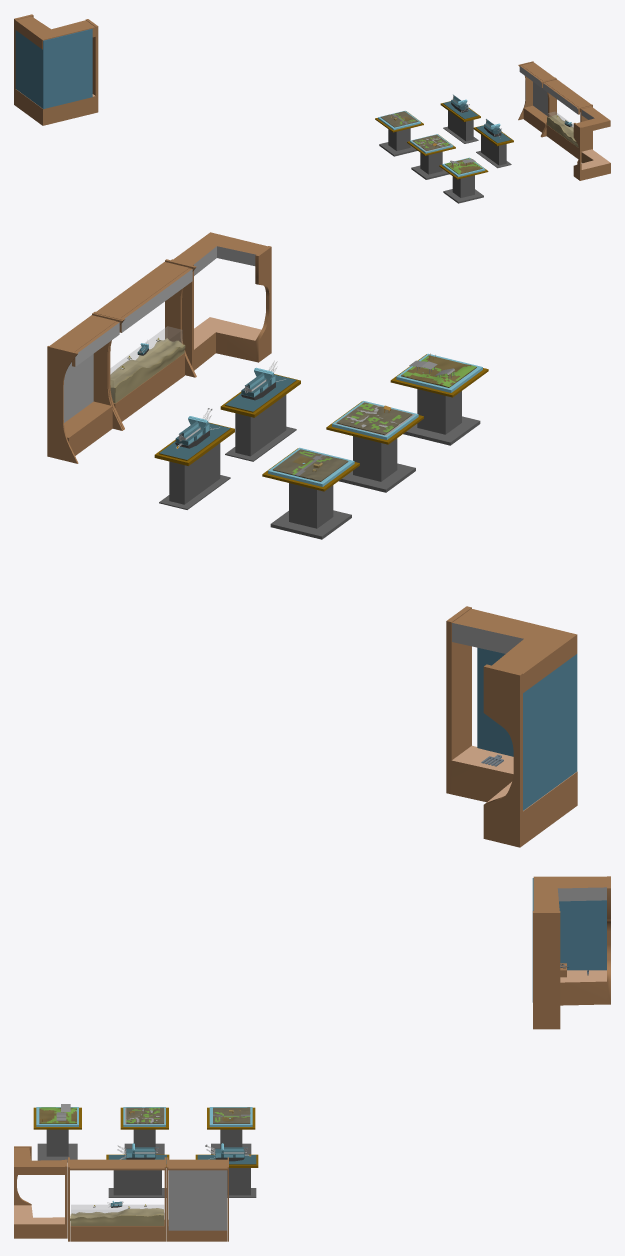
File: ruangan4_gabungan.fbx
3 views of the same model, one above another, from view 1: azimuth 30°, elevation 25°; view 2: azimuth 150°, elevation 25°; view 3: azimuth 270°, elevation 25° (orthographic). The views are drawn at different scales.
Parts seen in each view (by area): view 1: lemarikapalisapperintis_ruangan4, lemarikapalkerukberoperasidilepaspantai_ruangan4, lemarikapalisapproduksi_ruangana_4, pCube193, pCube195, pCube188, polySurface160, polySurface159, pCube254, polySurface178, Makettambangkolom_biorama_ruangan4, penambangantimahkulit_biorama_ruanagan4 (+1 smaller); view 2: lemarikapalisapperintis_ruangan4, lemarikapalisapproduksi_ruangana_4, lemarikapalkerukberoperasidilepaspantai_ruangan4, pCube188, pCube193, polySurface160, polySurface159, pCube195, pCube254, polySurface178, pCube255, Makettambangkolom_biorama_ruangan4 (+4 smaller); view 3: lemarikapalisapperintis_ruangan4, lemarikapalisapproduksi_ruangana_4, lemarikapalkerukberoperasidilepaspantai_ruangan4, polySurface160, pCube195, pCube254, pCube193, polySurface159, pCube188, pCube255, polySurface178, Makettambangkolom_biorama_ruangan4 (+3 smaller).
Boxes of the visible parts, <box> form: lemarikapalisapperintis_ruangan4: <box>14,14,610,180</box>; lemarikapalkerukberoperasidilepaspantai_ruangan4: <box>541,78,592,163</box>; lemarikapalisapproduksi_ruangana_4: <box>518,61,555,136</box>; pCube193: <box>407,134,455,179</box>; pCube195: <box>439,157,488,203</box>; pCube188: <box>375,110,423,156</box>; polySurface160: <box>473,125,513,168</box>; polySurface159: <box>440,101,480,143</box>; pCube254: <box>547,114,578,147</box>; polySurface178: <box>523,105,547,132</box>; Makettambangkolom_biorama_ruangan4: <box>445,158,482,174</box>; penambangantimahkulit_biorama_ruanagan4: <box>380,111,418,127</box>; lemarikapalisapperintis_ruangan4: <box>171,232,577,847</box>; lemarikapalisapproduksi_ruangana_4: <box>47,313,123,463</box>; lemarikapalkerukberoperasidilepaspantai_ruangan4: <box>93,259,196,429</box>; pCube188: <box>262,447,359,539</box>; pCube193: <box>326,401,423,492</box>; polySurface160: <box>220,374,300,461</box>; polySurface159: <box>154,422,234,509</box>; pCube195: <box>390,353,488,445</box>; pCube254: <box>110,338,185,403</box>; polySurface178: <box>64,401,112,455</box>; pCube255: <box>110,326,182,400</box>; Makettambangkolom_biorama_ruangan4: <box>401,353,476,387</box>; lemarikapalisapperintis_ruangan4: <box>14,876,610,1238</box>; lemarikapalisapproduksi_ruangana_4: <box>167,1157,228,1241</box>; lemarikapalkerukberoperasidilepaspantai_ruangan4: <box>68,1157,166,1241</box>; polySurface160: <box>106,1154,169,1197</box>; pCube195: <box>33,1107,81,1162</box>; pCube254: <box>70,1208,164,1225</box>; pCube193: <box>120,1107,168,1154</box>; polySurface159: <box>195,1154,258,1197</box>; pCube188: <box>207,1107,255,1154</box>; pCube255: <box>71,1205,163,1217</box>; polySurface178: <box>168,1220,227,1241</box>; Makettambangkolom_biorama_ruangan4: <box>39,1104,76,1123</box>.
Bounding box in the file's own units: 19.37 × 4.22 × 19.61.
